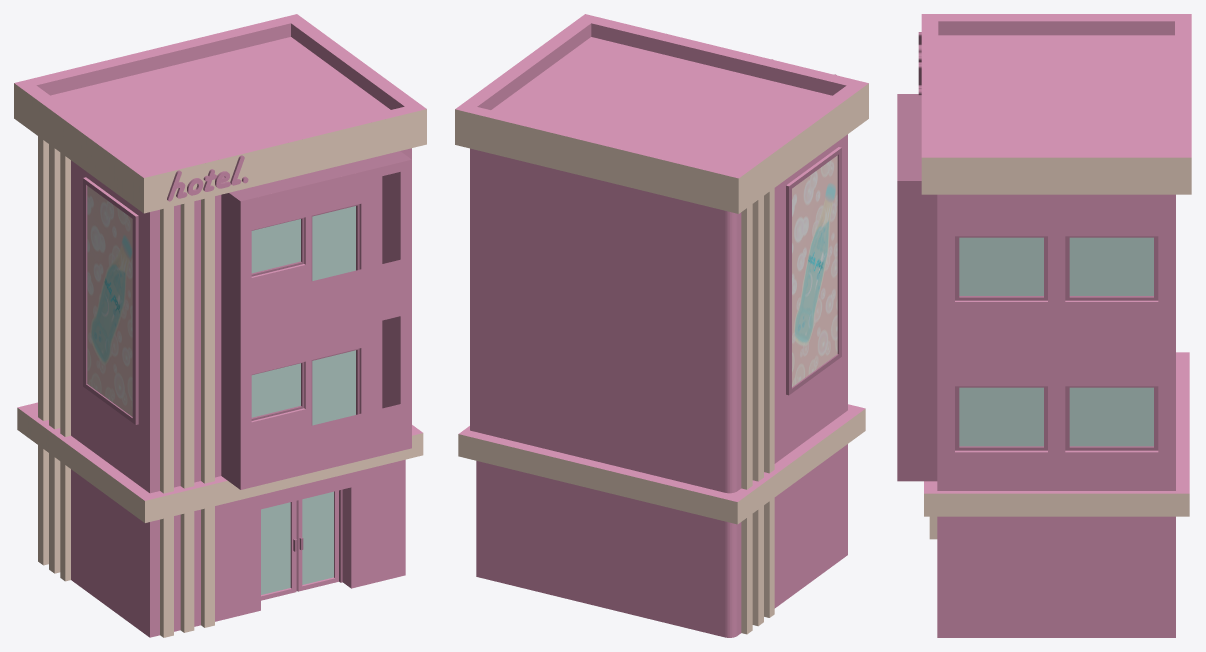
File: hotel.glb
The picture shows the model from 3 angles, left to right: view 1: azimuth 30°, elevation 25°; view 2: azimuth 150°, elevation 25°; view 3: azimuth 270°, elevation 25°; orthographic projection. The views are drawn at different scales.
Parts seen in each view (by area): view 1: body; view 2: body; view 3: body.
Part boxes in pixels (x1=…): body: x1=14, y1=14, x2=426, y2=637; body: x1=455, y1=14, x2=868, y2=637; body: x1=897, y1=14, x2=1191, y2=637.
Bounding box in the file's own units: 6.32 × 10 × 5.48.
5 materials, 1 textured.
